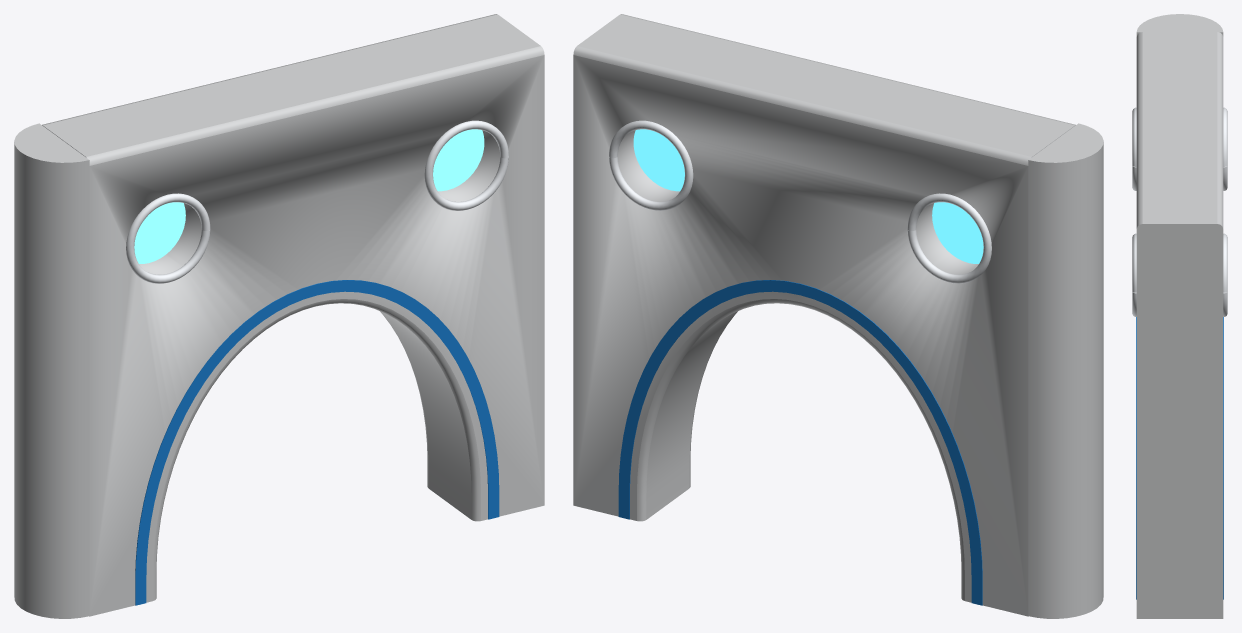
Rendered from Arch_D04_Porthole.fbx.
3 renders of one model, left to right at view 1: azimuth 30°, elevation 25°; view 2: azimuth 150°, elevation 25°; view 3: azimuth 270°, elevation 25°, orthographic. The views are drawn at different scales.
Parts seen in each view (by area): view 1: Arch_D04_Porthole; view 2: Arch_D04_Porthole; view 3: Arch_D04_Porthole.
Boxes of the visible parts, x1=… form: Arch_D04_Porthole: x1=14, y1=14, x2=544, y2=618; Arch_D04_Porthole: x1=573, y1=14, x2=1103, y2=618; Arch_D04_Porthole: x1=1132, y1=14, x2=1227, y2=618.
Size of the model in its own units: 2.29 by 2.01 by 0.44.
